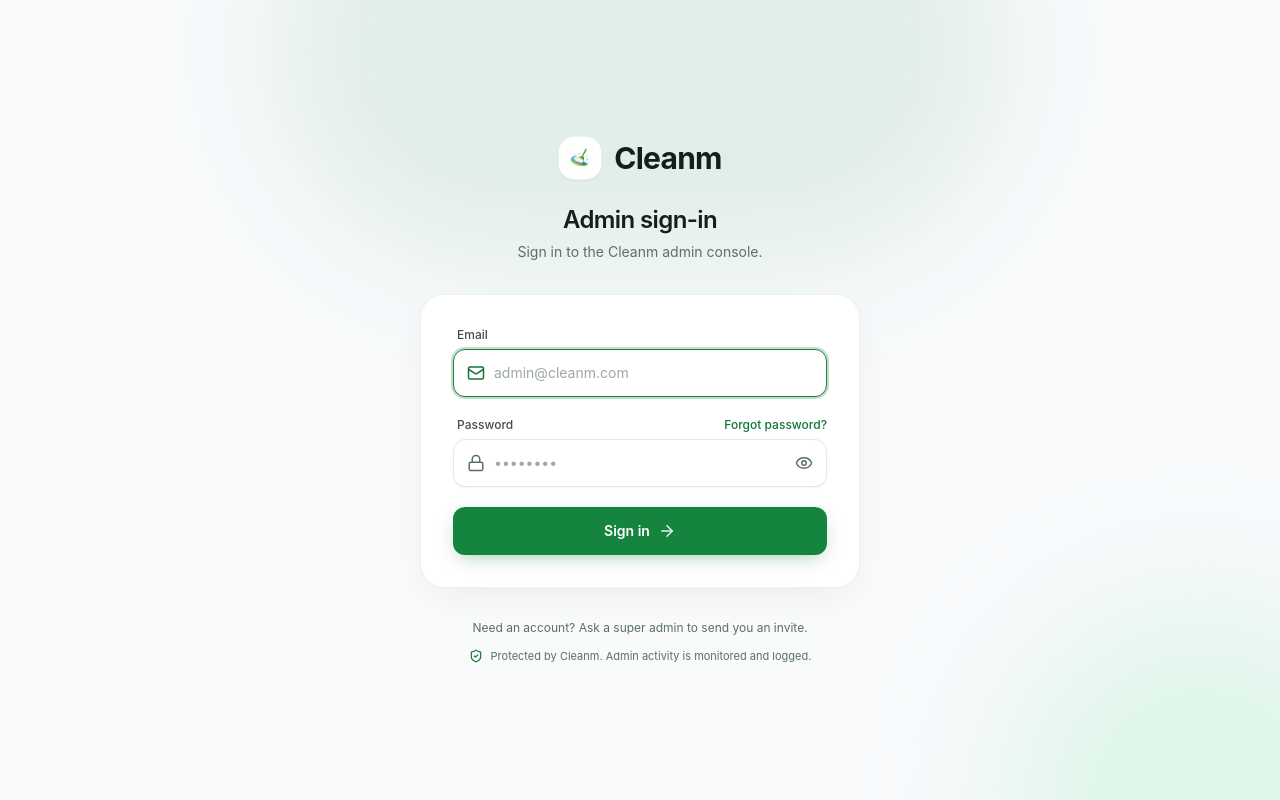
Test: admin login screen › surfaces bad credentials in the role=alert pill after exactly one login request
Type "admin@example.com" into the field labelled "Email".
click(640, 373); type("admin@example.com")  # box [453, 349, 827, 397]
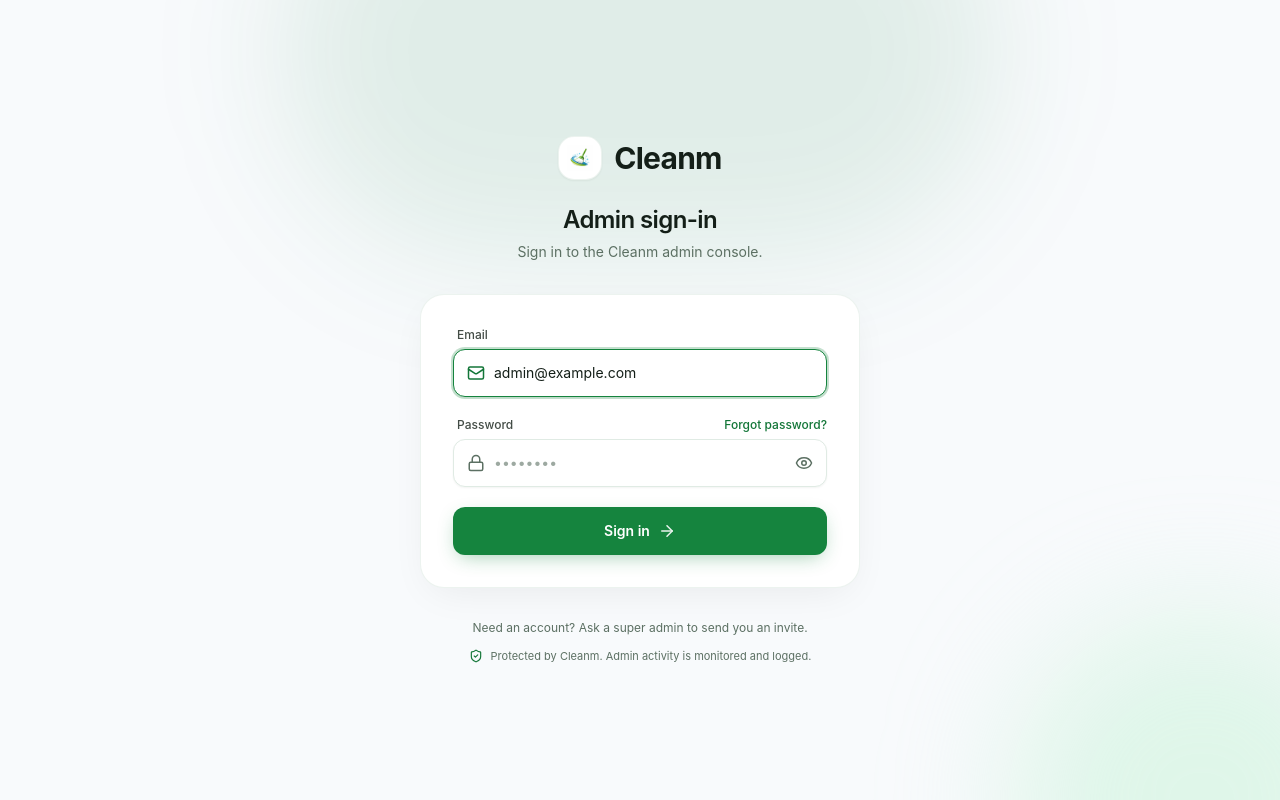
Type "correct-horse-battery" into the password field labelled "Password".
click(640, 463); type("correct-horse-battery")  # box [453, 439, 827, 487]
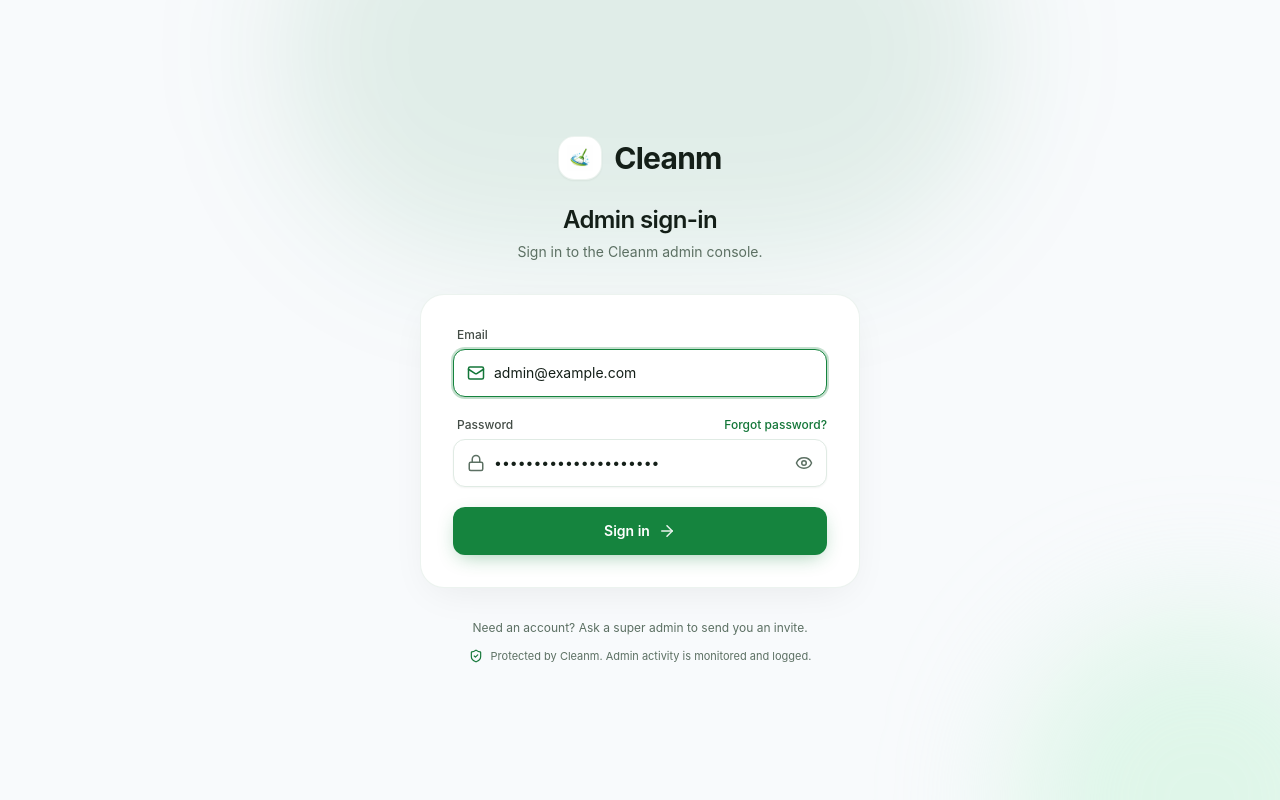
Click the button "Sign in".
click(640, 531)  # box [453, 507, 827, 555]
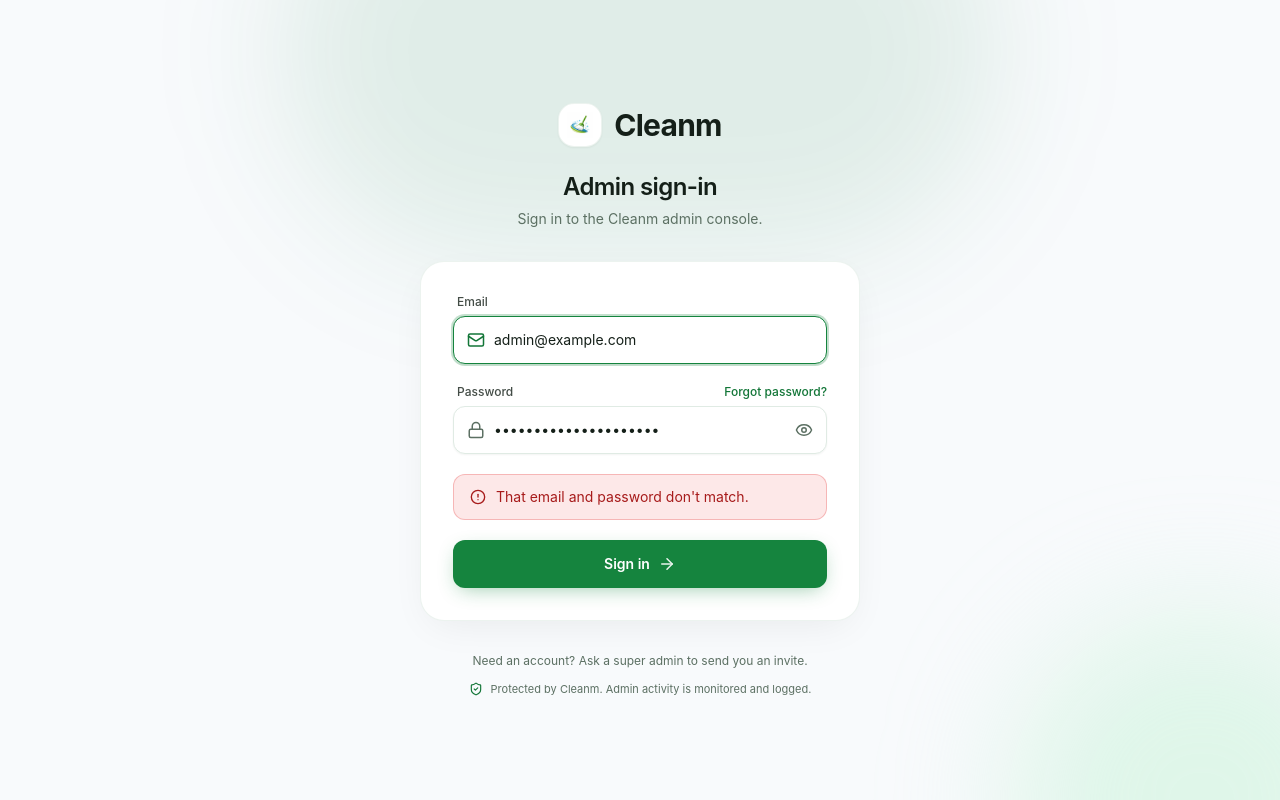
Expected: the heading "Admin sign-in" is shown, [563, 172, 717, 201]
Result: the message reads "That email and password don't match." at [496, 488, 749, 505]
